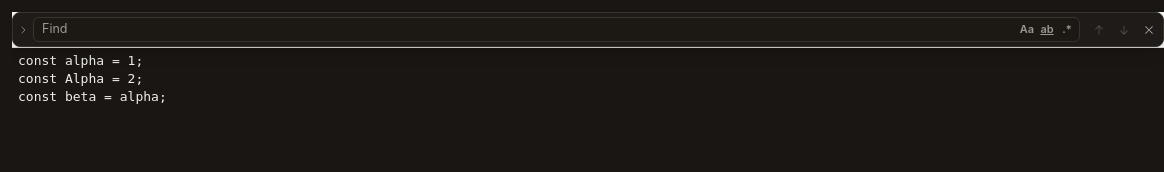
Test: the panel › reveals and hides the replace row from the chevron
Click the button named "Show replace" at (23, 30), box [13,16,33,44]
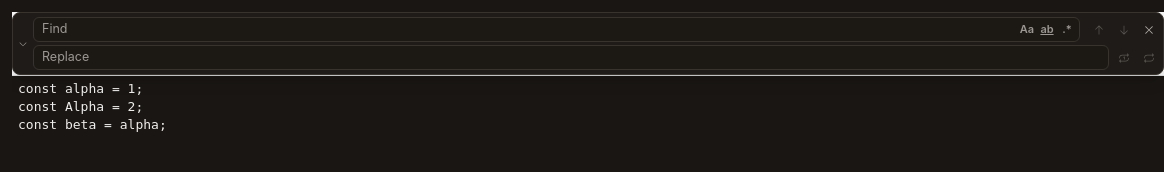
Now the field labelled "Replace" is shown, box [42,48,1105,67]
Click the button named "Hide replace" at (23, 44), box [13,30,33,58]
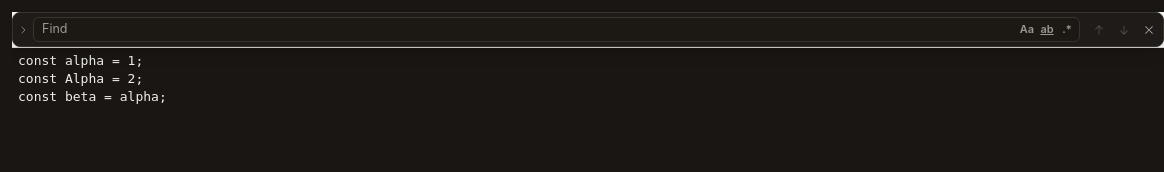
Now the field labelled "Replace" is gone
